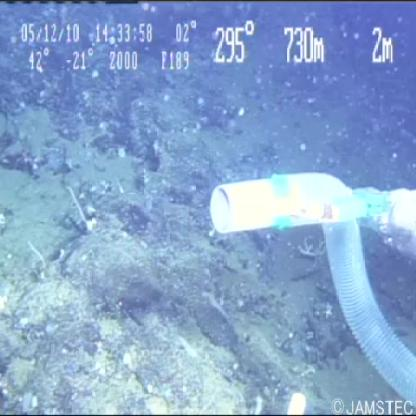Rov: (205, 168, 416, 406)
